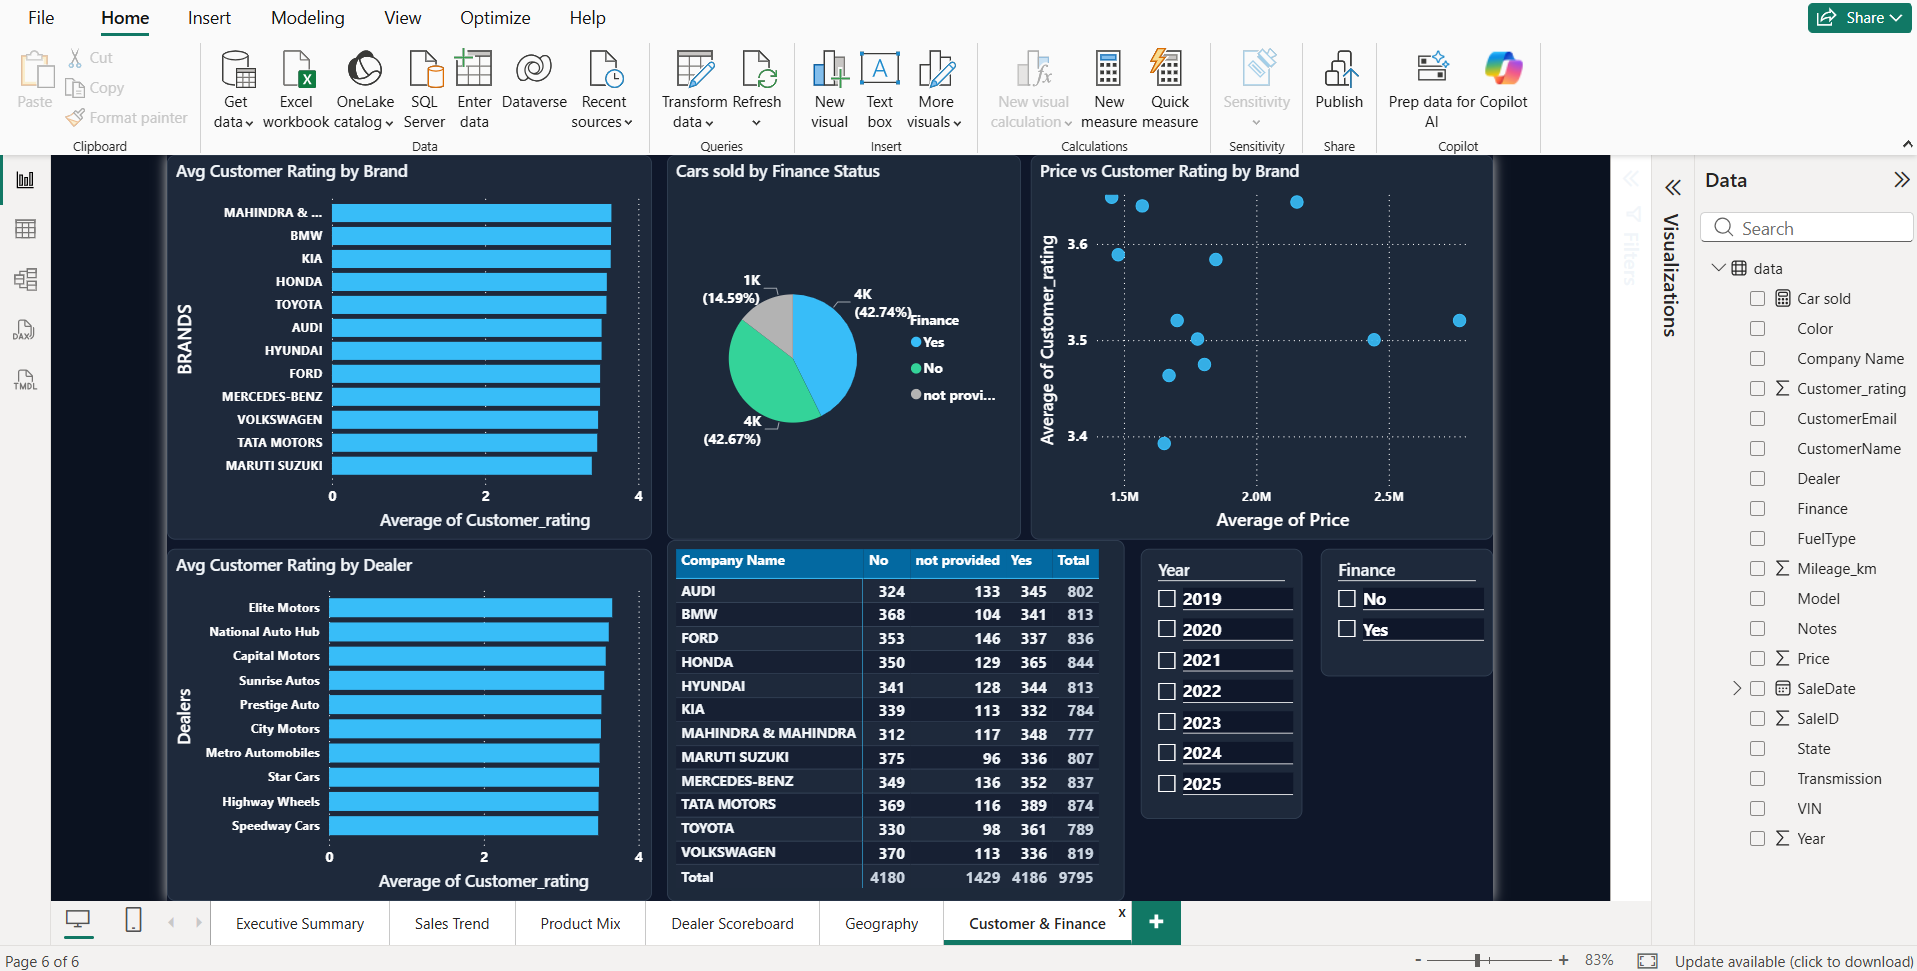

The dashboard page shown, as its layout file describes it:
{"tool":"powerbi","page":{"name":"Customer & Finance","canvas":[1280,720],"ordinal":5},"visuals":[{"type":"barChart","title":"Avg Customer Rating by Brand","fields":{"Category":["data.Company Name"],"Y":["Avg(data.Customer_rating)"]},"box":[0,0,468.1,371.6],"z":0},{"type":"barChart","title":"Avg Customer Rating by Dealer","fields":{"Y":["Avg(data.Customer_rating)"],"Category":["data.Dealer"]},"box":[0,380.3,468.3,339.9],"z":1000},{"type":"pieChart","title":"Cars sold by Finance Status","fields":{"Category":["data.Finance"],"Y":["data.Car sold"]},"box":[482.6,0,341.4,371.6],"z":2000},{"type":"scatterChart","title":"Price vs Customer Rating by Brand","fields":{"X":["Avg(data.Price)"],"Y":["Avg(data.Customer_rating)"],"Category":["data.Company Name"]},"box":[833.7,0,446.4,371.6],"z":3000},{"type":"pivotTable","fields":{"Rows":["data.Company Name"],"Columns":["data.Finance"],"Values":["data.Car sold"]},"box":[482.6,371.6,441.6,348.7],"z":4000},{"type":"slicer","fields":{"Values":["data.SaleDate.Variation.Date Hierarchy.Year"]},"box":[939.8,380,155.6,260.6],"z":5000},{"type":"slicer","fields":{"Values":["data.Finance"]},"box":[1113.5,380,166.5,123.1],"z":7000}]}

Visuals, with their boxes on the page's 1280x720 design canvas (x1, y1, x2, y2). These are canvas units, not pixel positions in the 1917x971 screenshot, which may show the page scaled, cropped or inside an application window:
"Avg Customer Rating by Brand" barChart: 0, 0, 468, 372
"Avg Customer Rating by Dealer" barChart: 0, 380, 468, 720
"Cars sold by Finance Status" pieChart: 483, 0, 824, 372
"Price vs Customer Rating by Brand" scatterChart: 834, 0, 1280, 372
pivotTable - data.Company Name x data.Finance: 483, 372, 924, 720
slicer - data.SaleDate.Variation.Date Hierarchy.Year: 940, 380, 1095, 641
slicer - data.Finance: 1114, 380, 1280, 503
